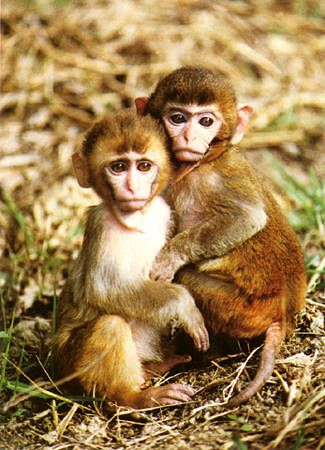monkey: (133, 56, 311, 414), (51, 99, 217, 427)
